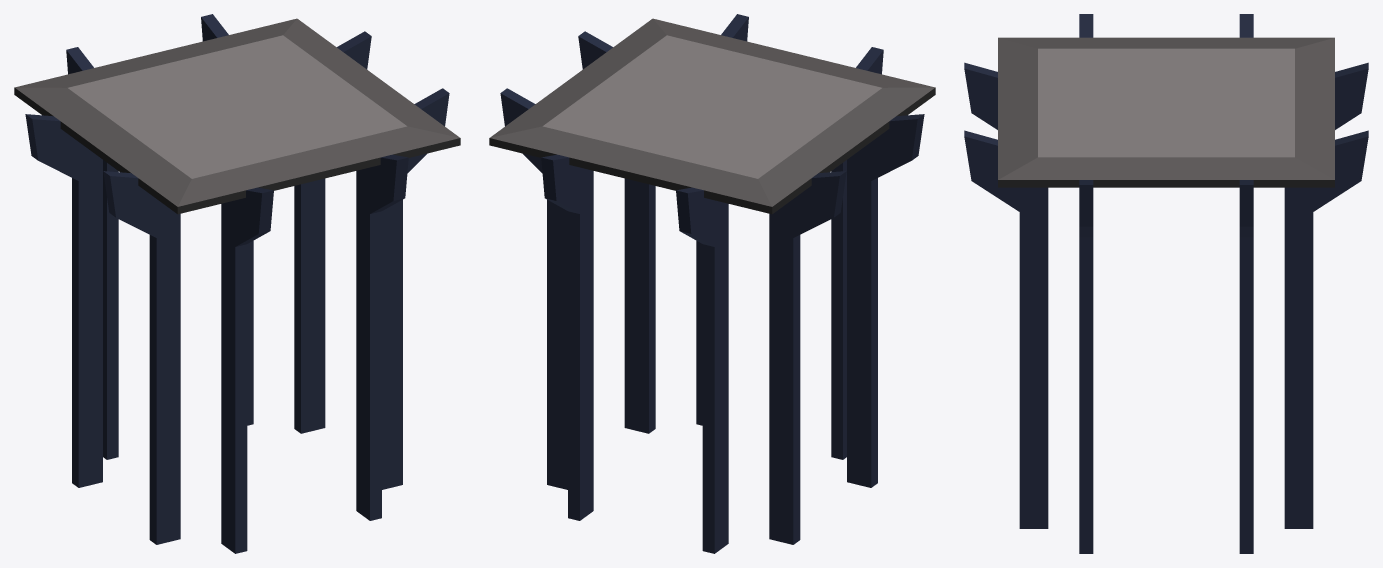
The model's file is station_type_03.fbx.
3 renders of one model, left to right at view 1: azimuth 30°, elevation 25°; view 2: azimuth 150°, elevation 25°; view 3: azimuth 270°, elevation 25°, orthographic. The views are drawn at different scales.
Visible parts, largest first — view 1: station_type_03; view 2: station_type_03; view 3: station_type_03.
Boxes of the visible parts, <box> form: station_type_03: <box>14,14,460,553</box>; station_type_03: <box>489,14,935,553</box>; station_type_03: <box>964,14,1368,553</box>.
Size of the model in its own units: 988 by 1057 by 988.
Materials: 1 (1 with a texture image).
